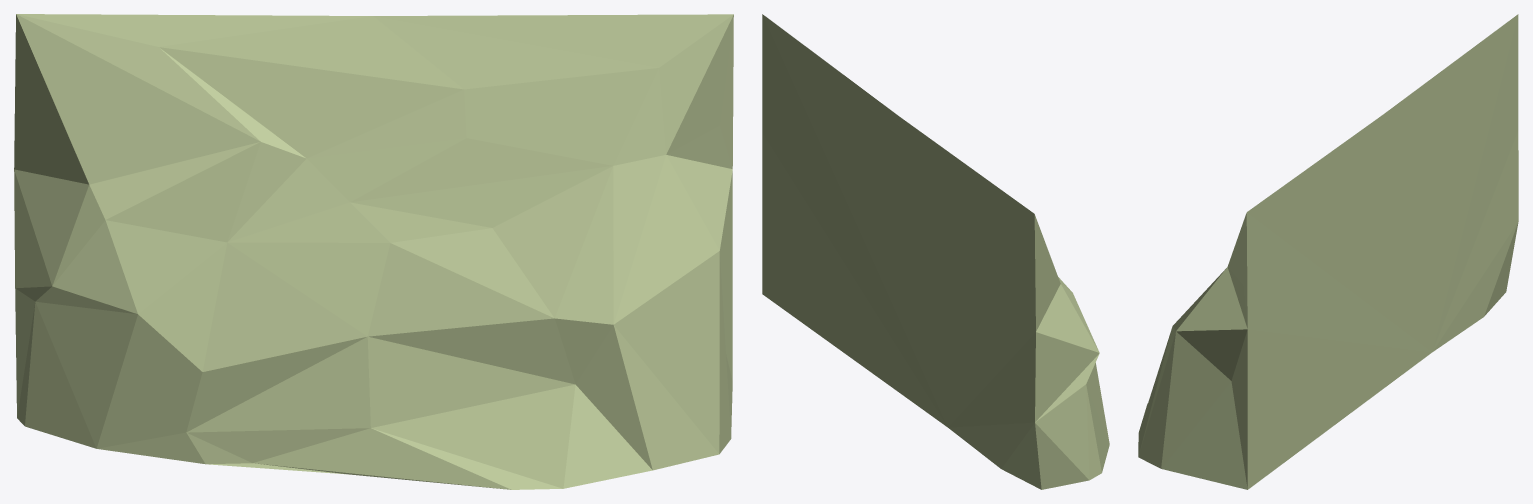
The model's file is hill_21.gltf.
3 renders of one model, left to right at view 1: azimuth 30°, elevation 25°; view 2: azimuth 150°, elevation 25°; view 3: azimuth 270°, elevation 25°, orthographic. The views are drawn at different scales.
Visible parts, largest first — view 1: hill; view 2: hill; view 3: hill.
Part boxes in pixels (box(x1,y1,x2,y2)): hill: box(14, 14, 733, 489); hill: box(762, 14, 1109, 489); hill: box(1138, 14, 1518, 489).
Bounding box in the file's own units: 4.65 × 2.84 × 3.51.
